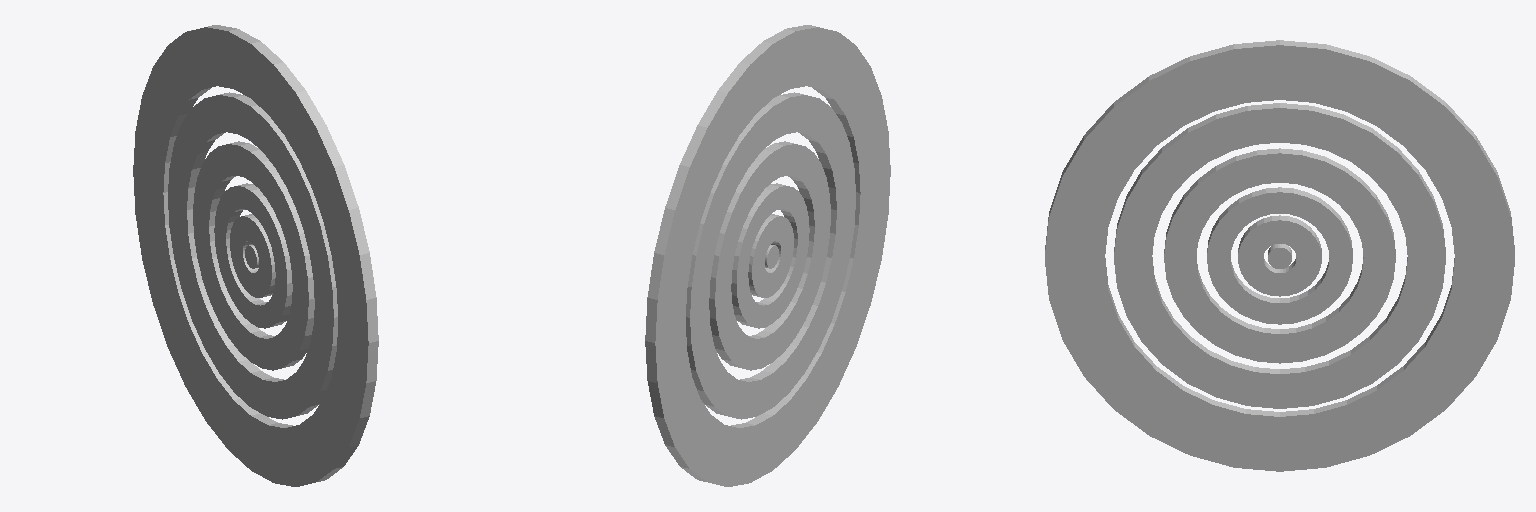
File: Bullseye Target.obj
3 renders of one model, left to right at view 1: azimuth 30°, elevation 25°; view 2: azimuth 150°, elevation 25°; view 3: azimuth 270°, elevation 25°, orthographic.
Visible parts, largest first — view 1: Target; view 2: Target; view 3: Target.
Boxes of the visible parts, box(x1,y1,x2,y2) form: Target: box(133, 25, 378, 486); Target: box(645, 25, 890, 486); Target: box(1045, 40, 1514, 471).
Bounding box in the file's own units: 0.1 × 4 × 4.